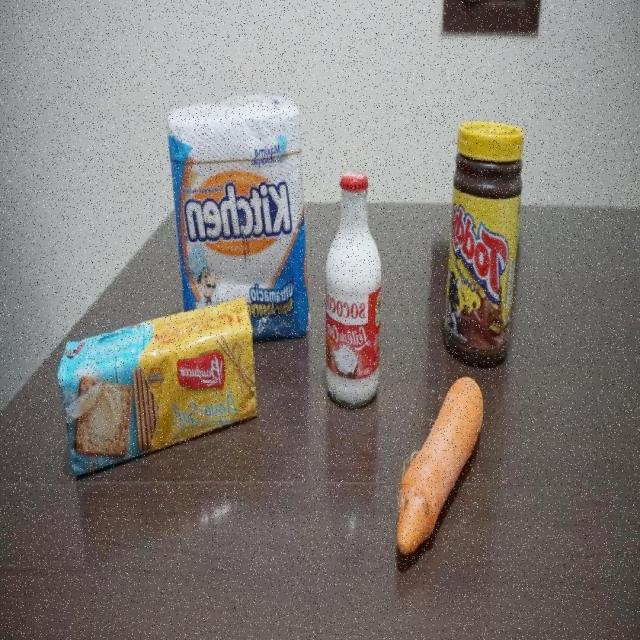Carrot: (396, 373, 485, 563)
ChocolatePowder: (442, 120, 524, 370)
CoconutMilk: (324, 170, 384, 412)
Cracker: (56, 297, 258, 477)
Napkin: (166, 94, 313, 344)
